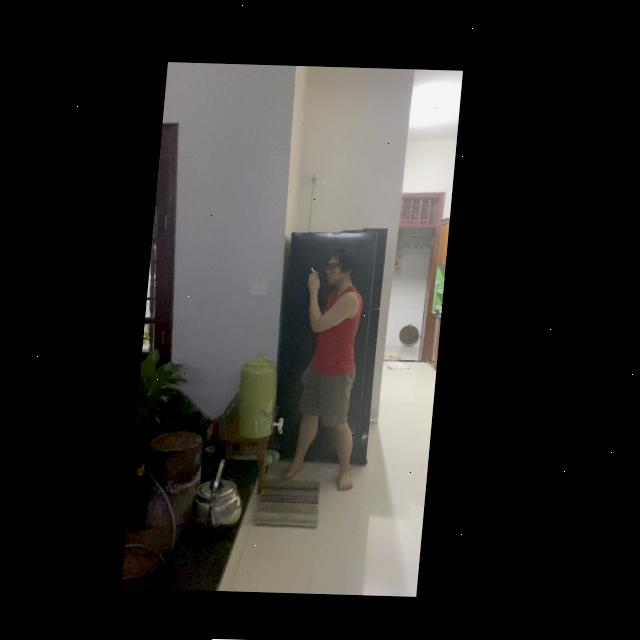cigarette: (315, 265, 320, 270)
